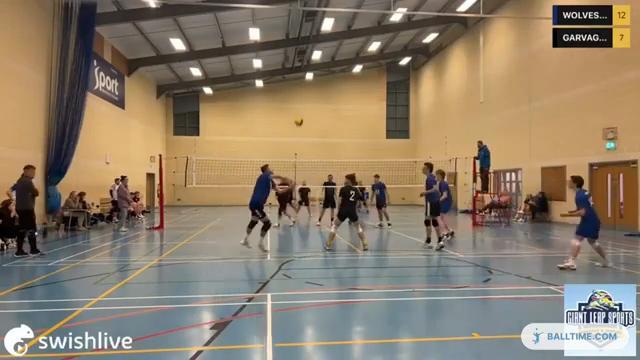Player: (558, 175, 610, 269), (325, 174, 367, 250), (420, 162, 444, 249), (436, 169, 454, 239), (371, 174, 391, 227), (274, 178, 295, 226), (317, 174, 336, 225), (296, 180, 310, 217), (358, 181, 368, 213)
Receive: (238, 161, 298, 252)
ball: (294, 116, 304, 128)
